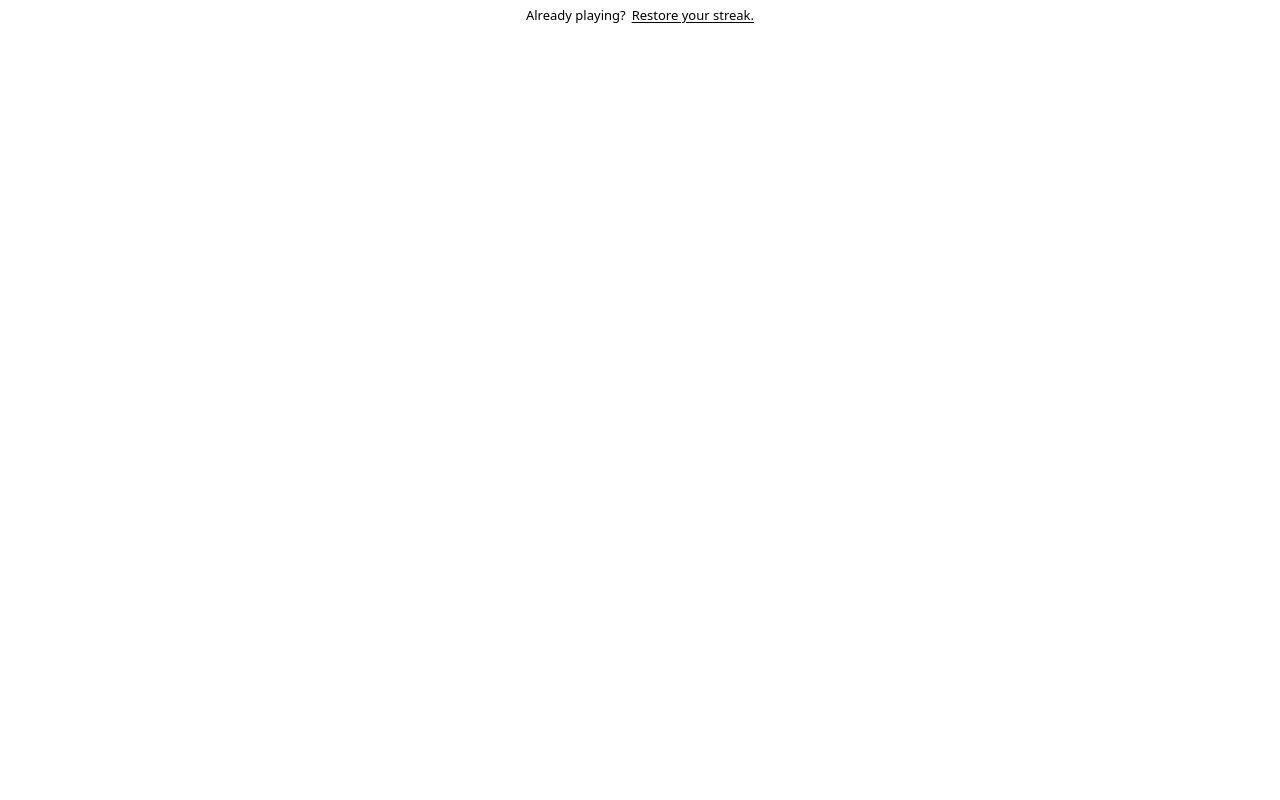
Test: not-recognized state opens the existing capture › gives an unknown address the existing new-signup response
The width and height of the screenshot is (1280, 800).
Click the button with test id "daily-restore-open": (693, 16) [632,8,754,24]
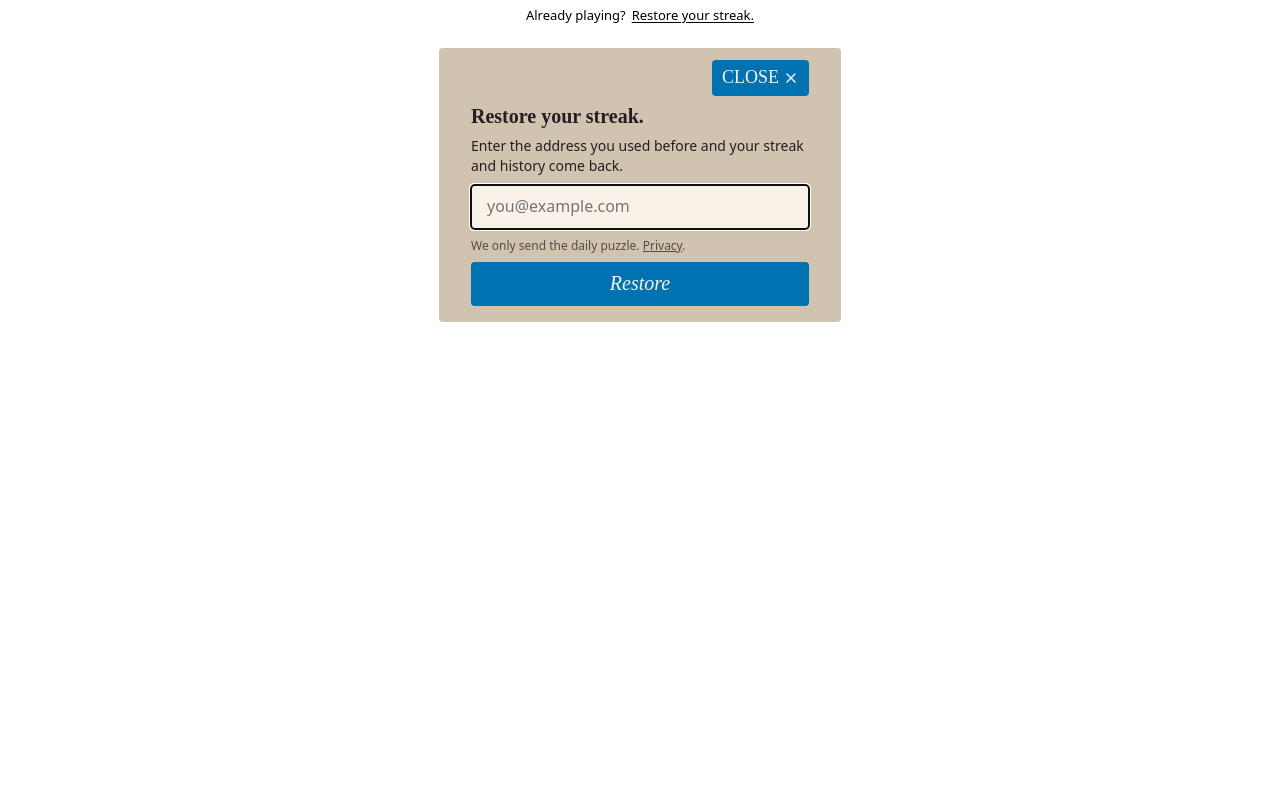
In the field named "Email address": (640, 207) [471,185,809,229], type "brand-new@example.com"
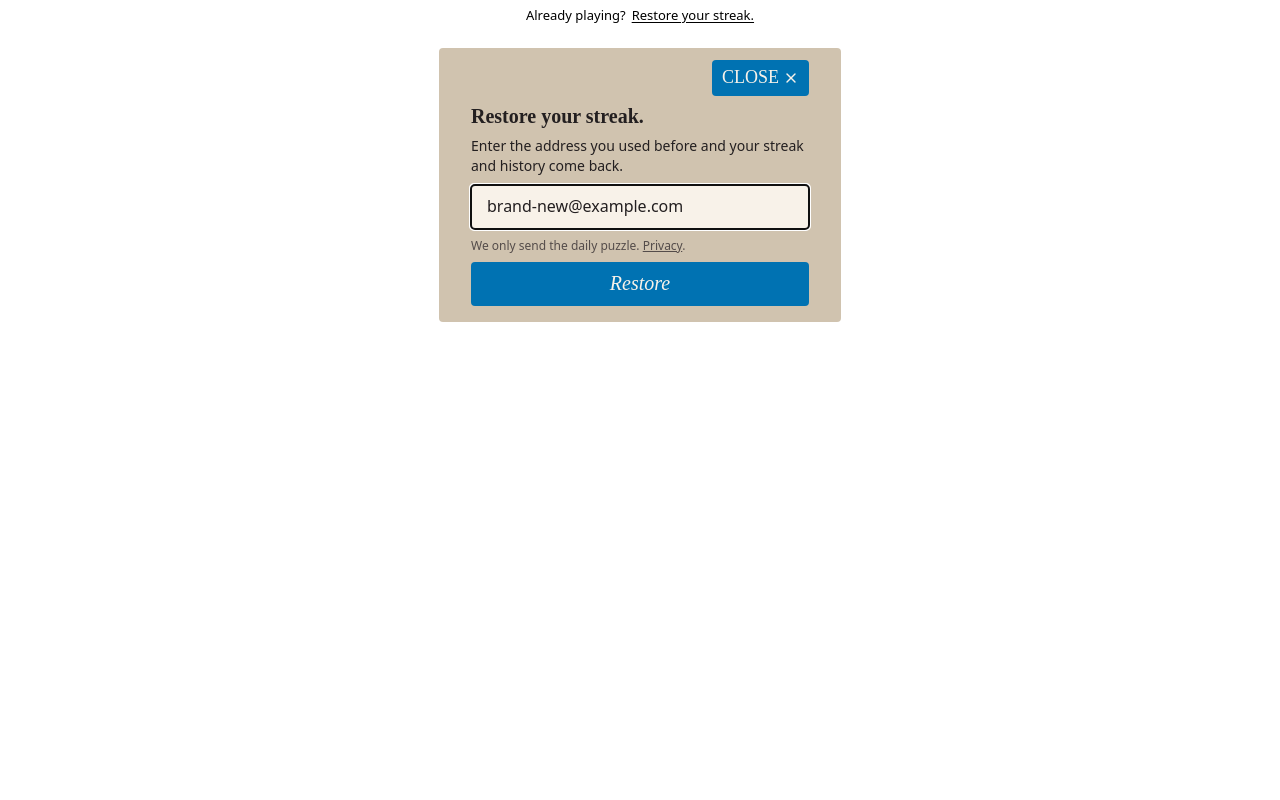
Click the button "Restore": (640, 284) [471,262,809,306]
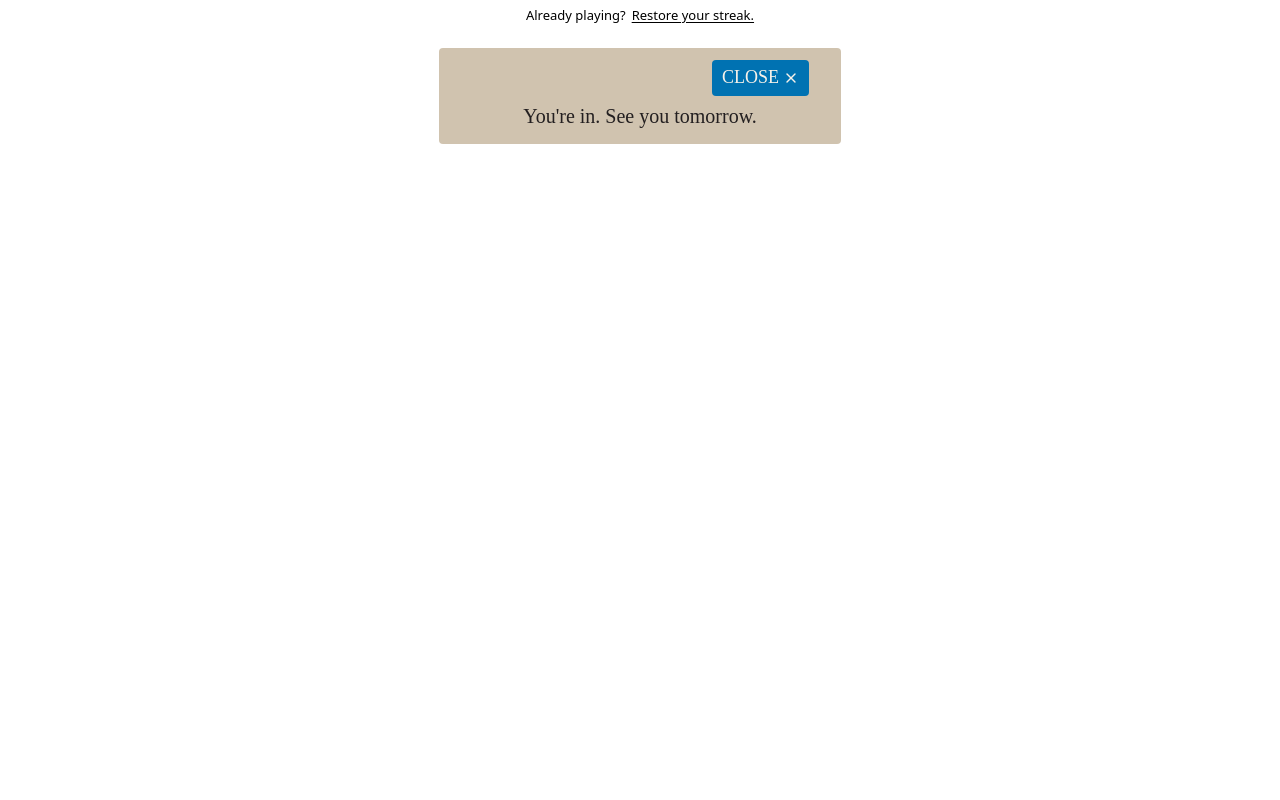
Expected: the text "You're in. See you tomorrow." is shown, [523,105,757,127]
